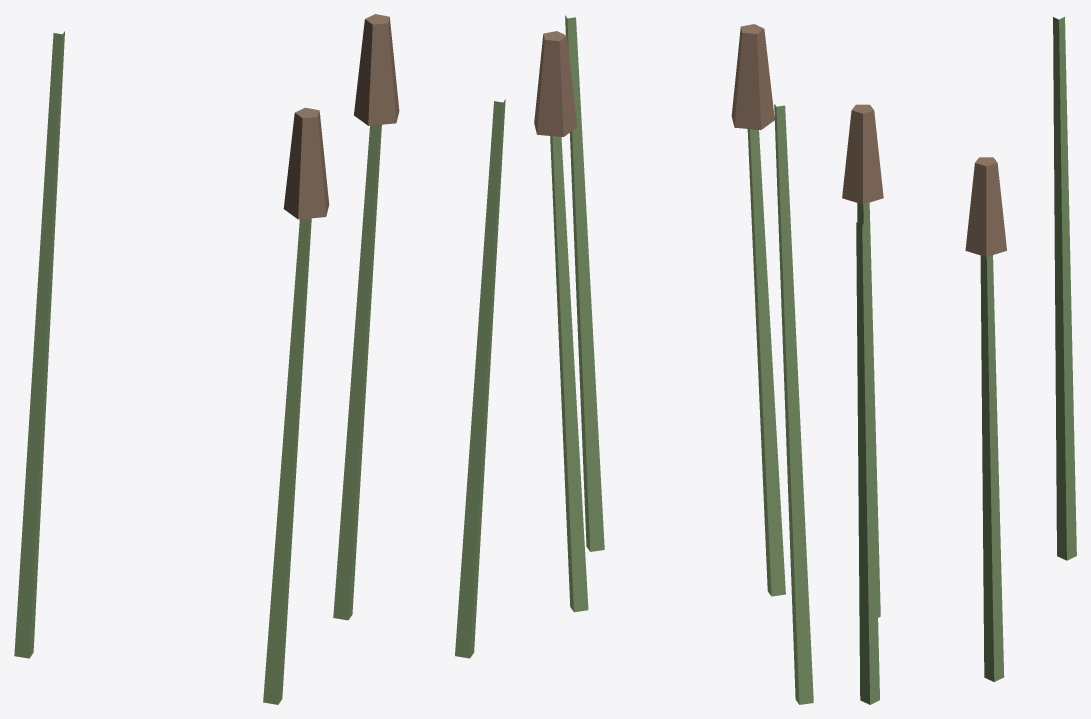
The picture shows the model from 3 angles, left to right: view 1: azimuth 30°, elevation 25°; view 2: azimuth 150°, elevation 25°; view 3: azimuth 270°, elevation 25°; orthographic projection. The views are drawn at different scales.
Parts seen in each view (by area): view 1: Body; view 2: Body; view 3: Body.
Part boxes in pixels (x1,y1,x2,y2): Body: (14, 14, 505, 704); Body: (534, 15, 813, 704); Body: (842, 17, 1076, 704).
Size of the model in its own units: 0.9762 by 1.53 by 0.5896.
